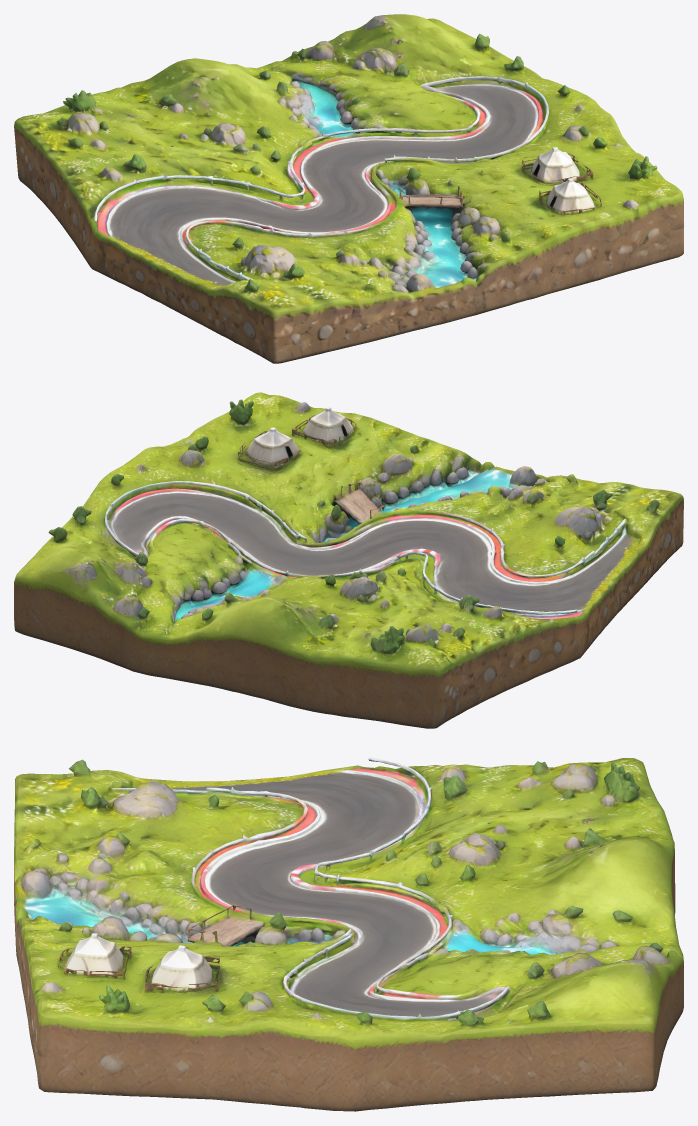
3 views of the same model, one above another, from view 1: azimuth 30°, elevation 25°; view 2: azimuth 150°, elevation 25°; view 3: azimuth 270°, elevation 25° (orthographic). The views are drawn at different scales.
Visible parts, largest first — view 1: model; view 2: model; view 3: model.
Part boxes in pixels (box(x1,y1,x2,y2)): model: box(14, 14, 683, 363); model: box(14, 392, 683, 728); model: box(14, 757, 683, 1111).
Bounding box in the file's own units: 1.9 × 0.3114 × 1.81.
Materials: 1 (1 with a texture image).
